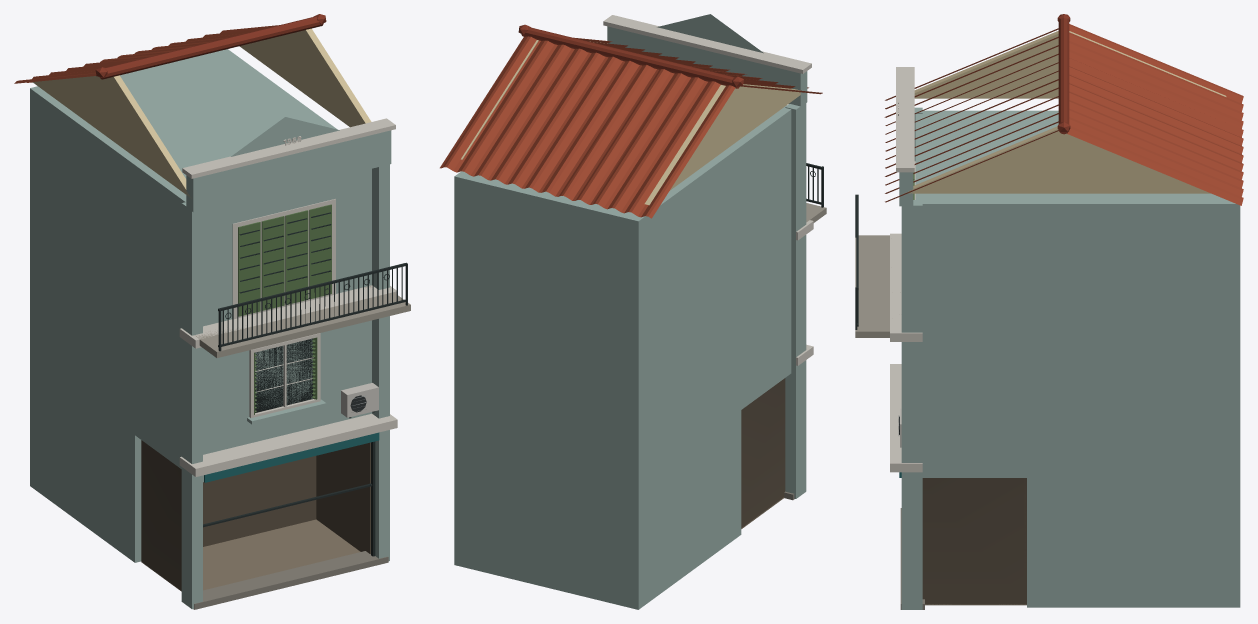
File: nha_D.glb
The picture shows the model from 3 angles, left to right: view 1: azimuth 30°, elevation 25°; view 2: azimuth 150°, elevation 25°; view 3: azimuth 270°, elevation 25°; orthographic projection. The views are drawn at different scales.
Visible parts, largest first — view 1: nha_D; view 2: nha_D; view 3: nha_D.
Boxes of the visible parts, x1,y1,x2,y2 form: nha_D: (14, 14, 410, 609); nha_D: (440, 14, 826, 609); nha_D: (855, 14, 1243, 609).
Size of the model in its own units: 5.79 by 11.75 by 8.37.
